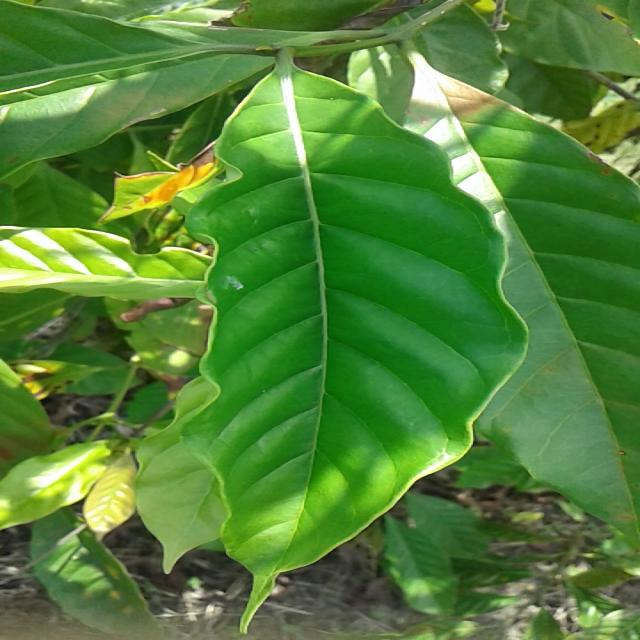Sanas: (134, 70, 528, 632)
